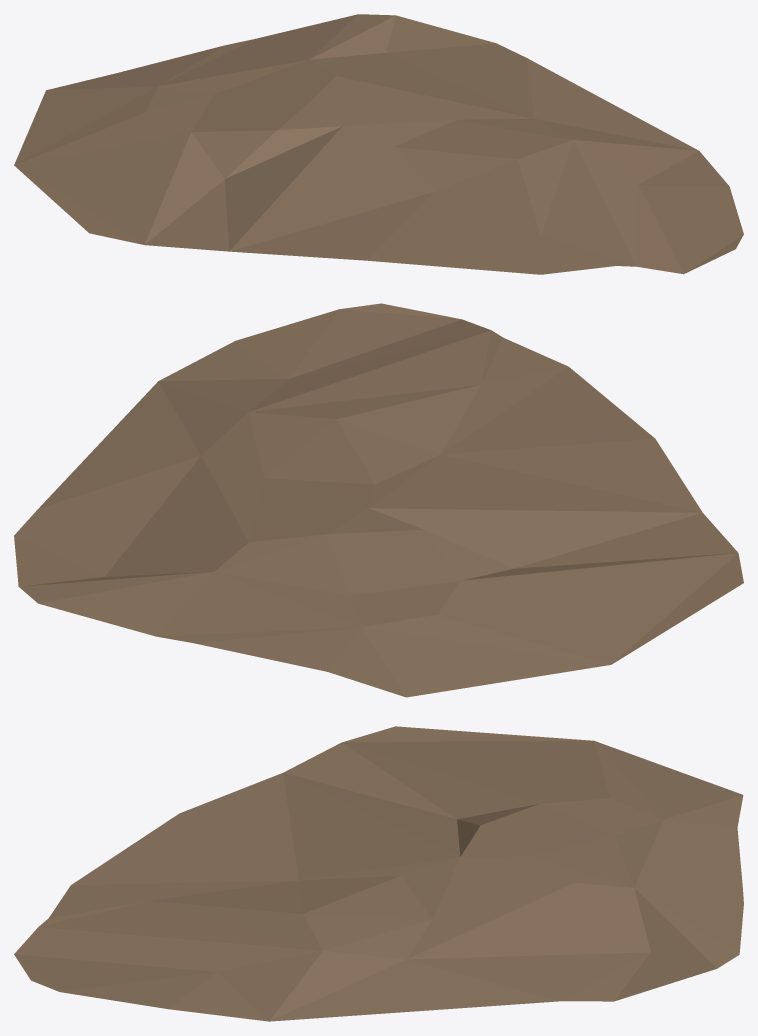
The model's file is driftwood.lod2.glb.
3 renders of one model, top to bottom at view 1: azimuth 30°, elevation 25°; view 2: azimuth 150°, elevation 25°; view 3: azimuth 270°, elevation 25°, orthographic. The views are drawn at different scales.
Visible parts, largest first — view 1: Model_material0_0; view 2: Model_material0_0; view 3: Model_material0_0.
Boxes of the visible parts, x1,y1,x2,y2 form: Model_material0_0: (14, 14, 743, 274); Model_material0_0: (14, 303, 743, 697); Model_material0_0: (14, 726, 743, 1021).
Bounding box in the file's own units: 6.35 × 0.3249 × 6.84.
